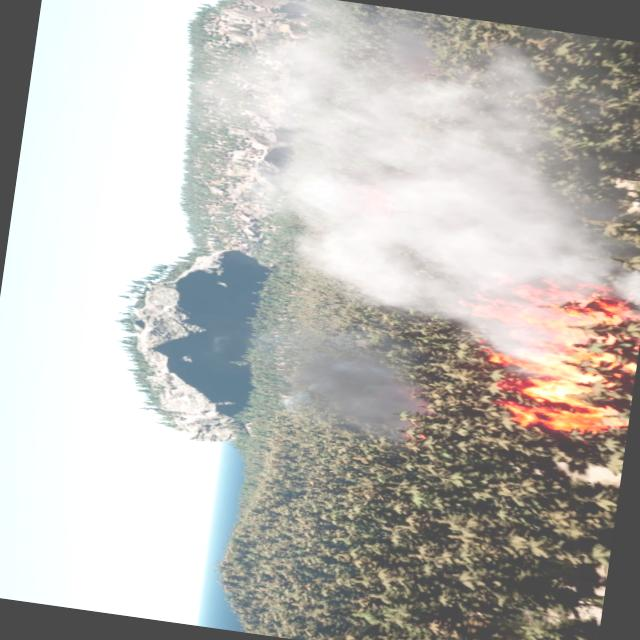fire: (438, 266, 640, 440)
smoke: (163, 0, 640, 376), (266, 328, 432, 443)
